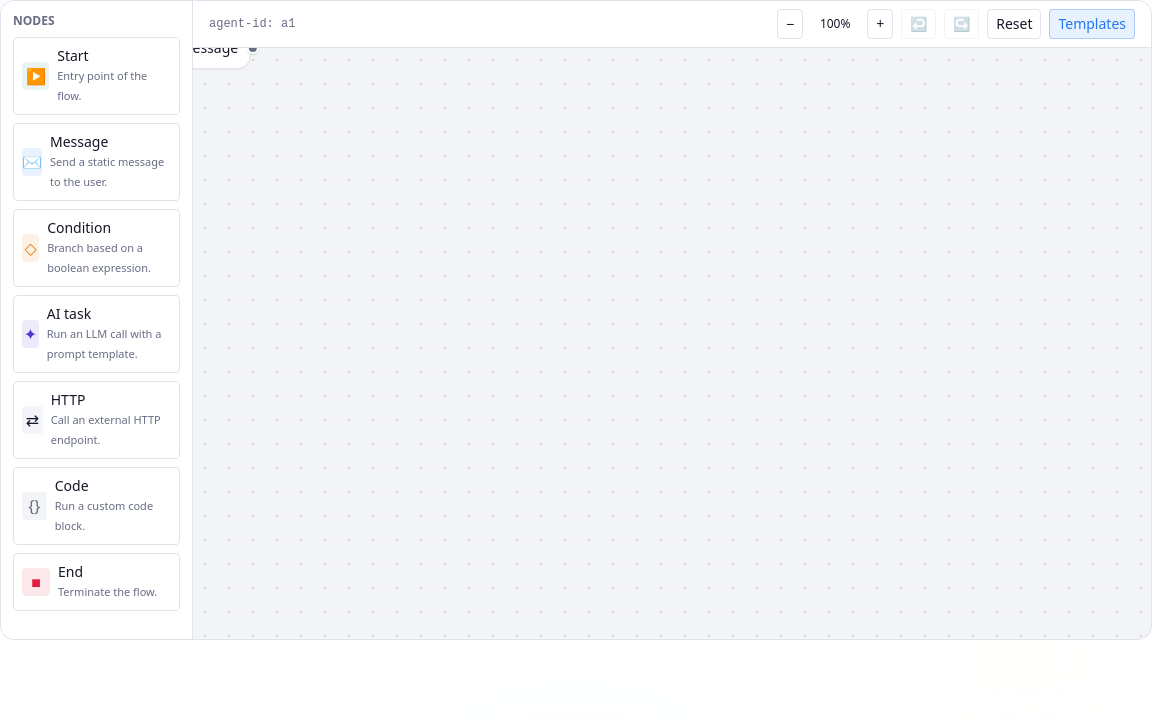
Scenario: Node config sidebar › persists a message body on blur and surfaces validation when blank
Click the button with test id "flow-node-message-1" at coordinates (193, 48), box [135,27,251,69]
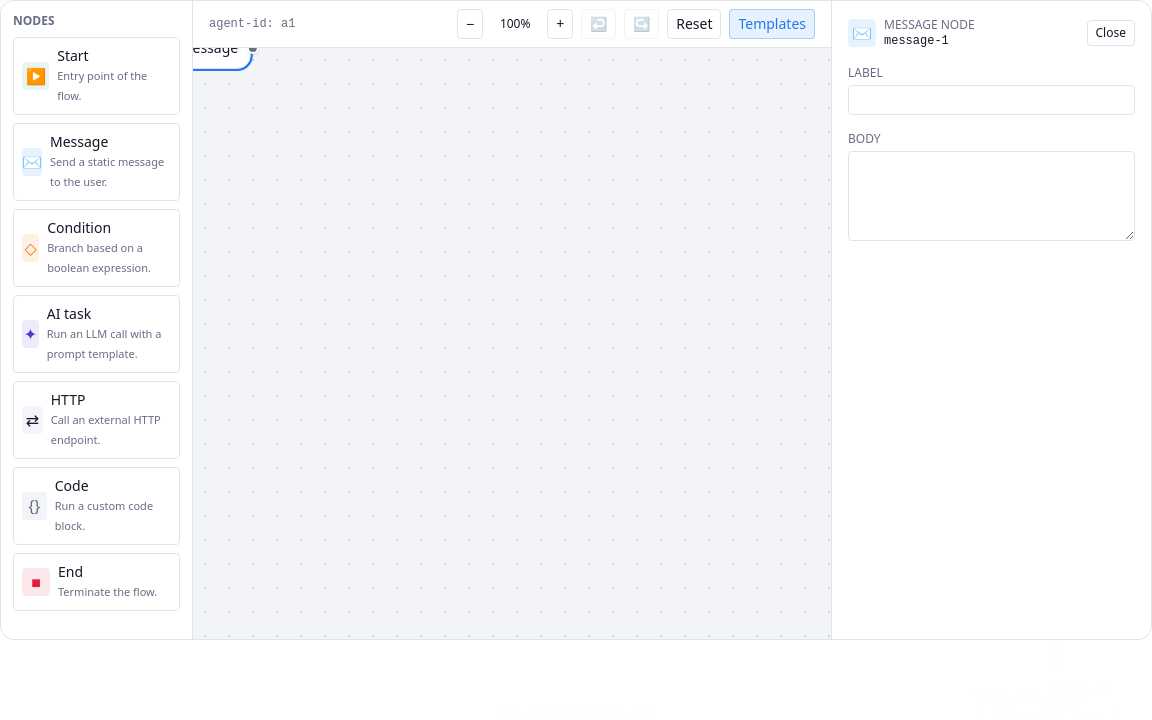
Blank → blur should produce a validation error.
Leave the text box with test id "node-config-body-input", box [848,151,1135,241]
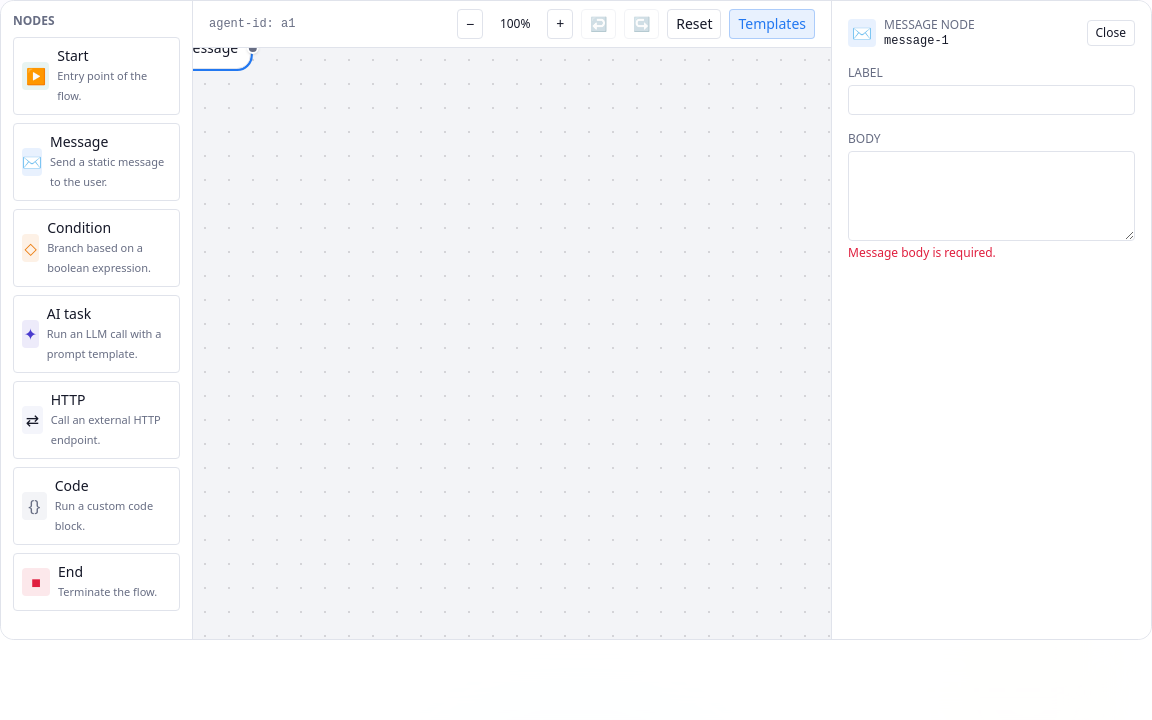
Result: the message with test id "node-config-body-error" shows "required" at [848,244,996,261]
Type "Hello" into the text box with test id "node-config-body-input" at coordinates (992, 196), box [848,151,1135,241]
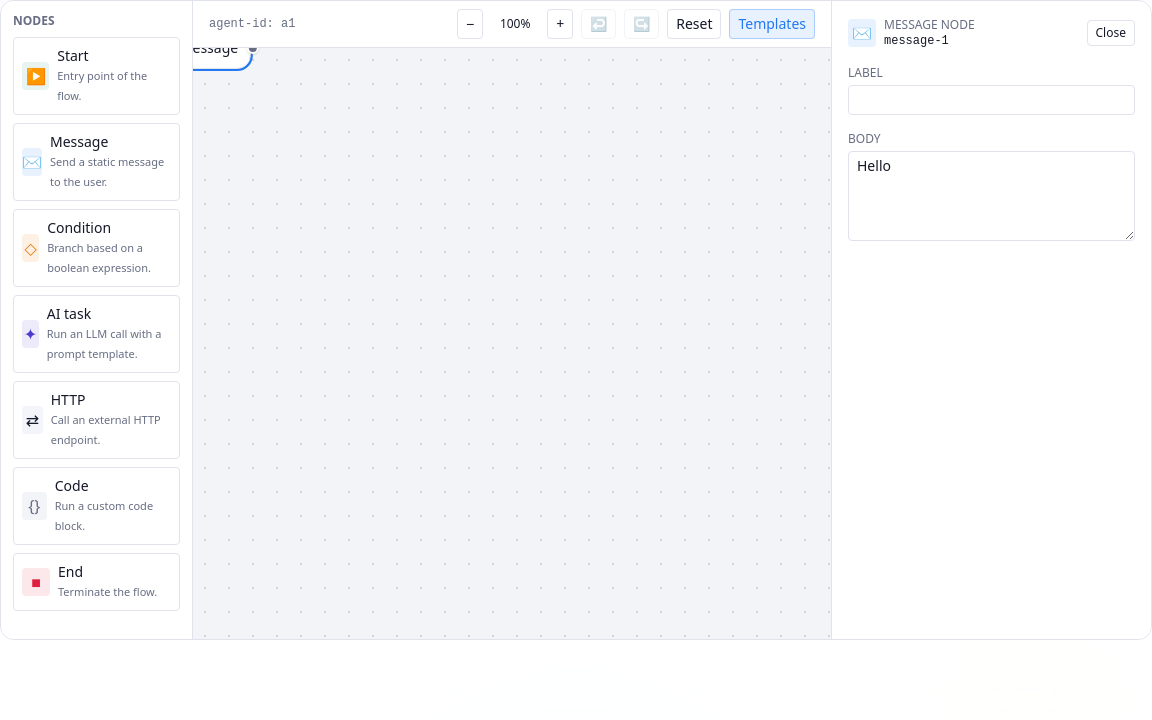
Closing and reopening keeps the persisted value.
Click the button with test id "node-sidebar-close" at coordinates (1111, 33), box [1086,20,1135,46]
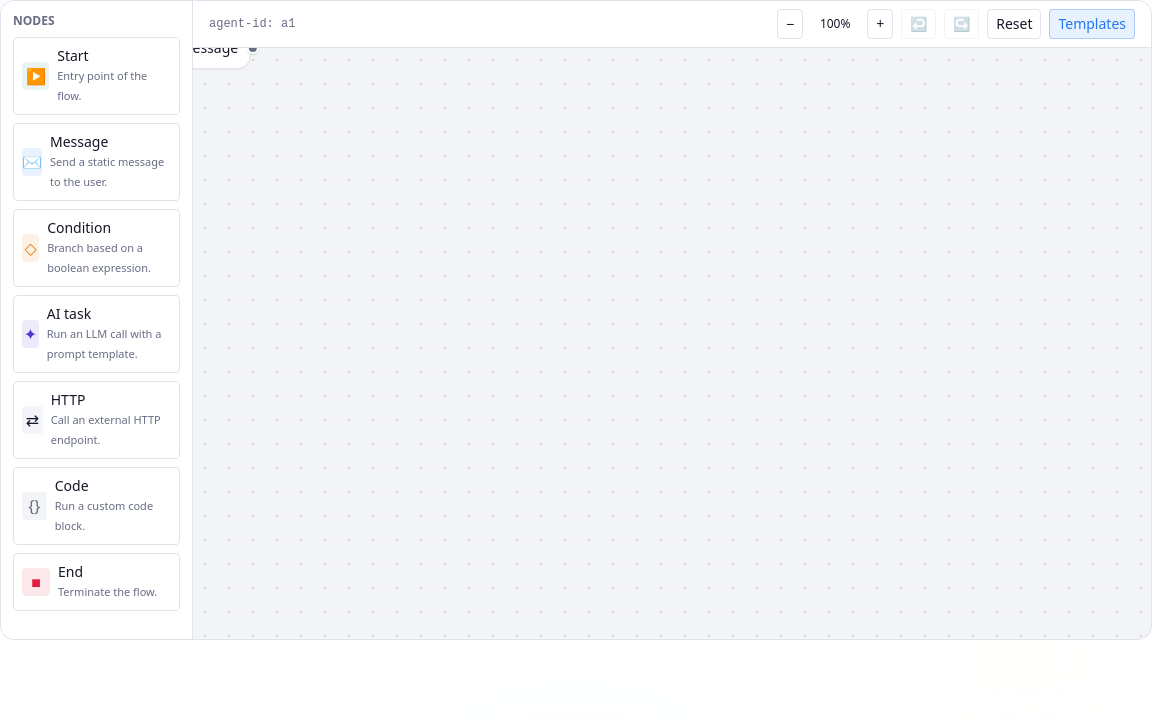
Result: the element with test id "node-sidebar" is gone
Click the button with test id "flow-node-message-1" at coordinates (193, 48), box [135,27,251,69]
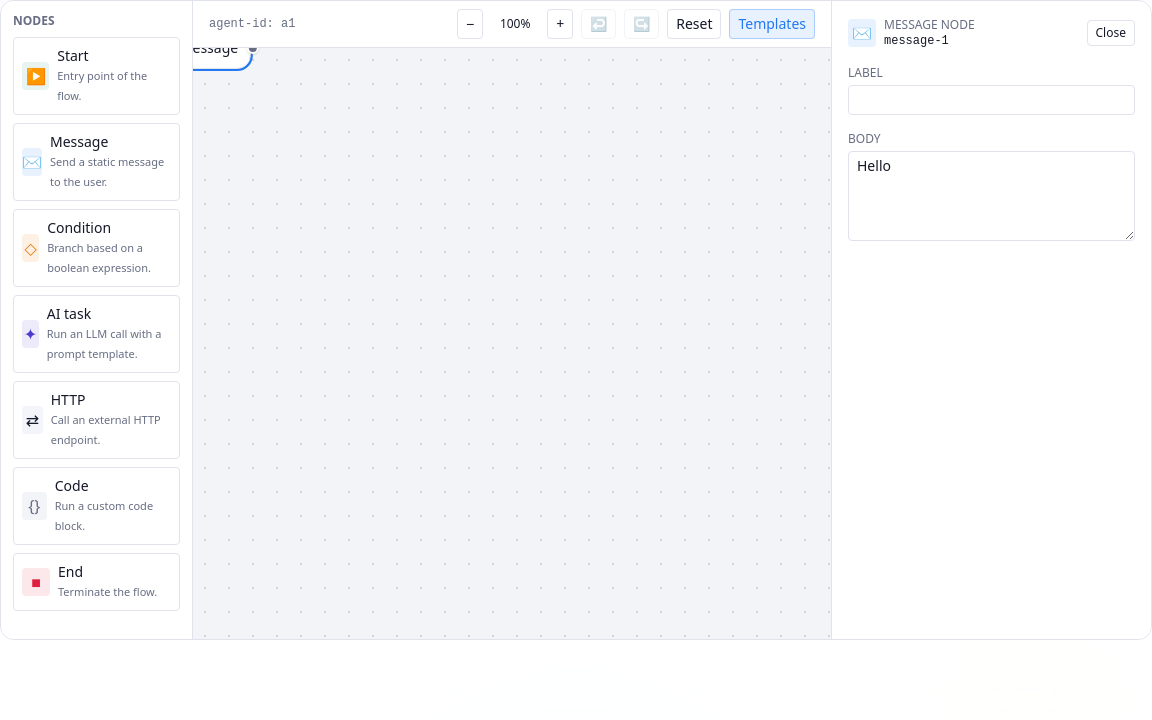
Result: the text box with test id "node-config-body-input" holds "Hello" at [848,151,1135,241]
